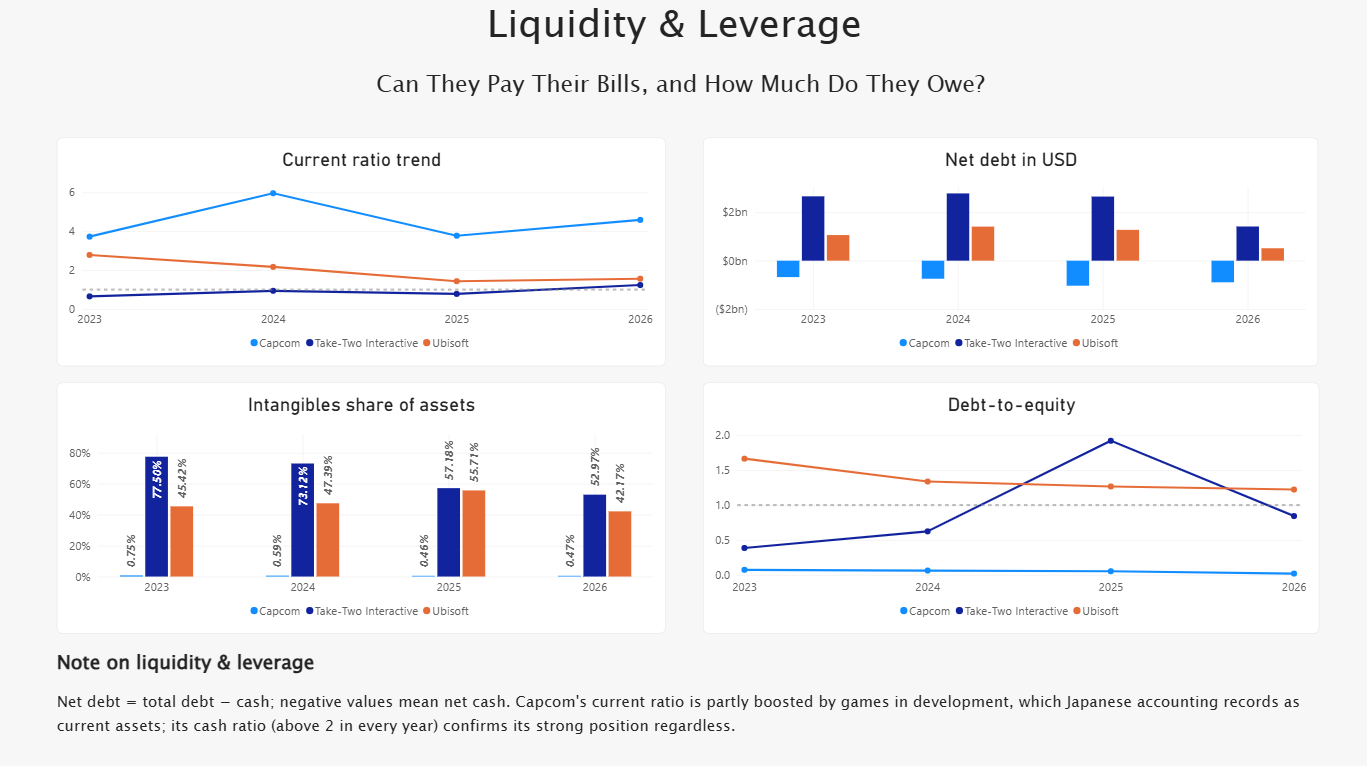

This screenshot's page, from the dashboard's own definition file:
{"tool":"powerbi","page":{"name":"Liquidity & leverage","canvas":[1920,1080],"ordinal":2},"visuals":[{"type":"textbox","box":[191.9,0,1534.9,198.8],"z":0},{"type":"lineChart","title":"Current ratio trend","fields":{"Category":["Years.Year"],"Series":["public companies.company_name"],"Y":["Avg(public liquidity_leverage.current_ratio)"]},"box":[89,198.8,849.4,319.2],"z":1000},{"type":"clusteredColumnChart","title":"Net debt in USD","fields":{"Category":["Years.Year"],"Series":["public companies.company_name"],"Y":["Sum(public amounts_usd.net_debt_usd)"]},"box":[990.7,198.8,858.1,319.2],"z":2000},{"type":"clusteredColumnChart","title":"Intangibles share of assets","fields":{"Category":["Years.Year"],"Series":["public companies.company_name"],"Y":["Avg(public liquidity_leverage.intangibles_to_assets)"]},"box":[89,540.7,849.4,350.6],"z":3000},{"type":"textbox","box":[89,910.5,1759.9,151.7],"z":4000},{"type":"lineChart","title":"Debt-to-equity","fields":{"Category":["Years.Year"],"Series":["public companies.company_name"],"Y":["Avg(public liquidity_leverage.debt_to_equity)"]},"box":[990.7,540.7,859.9,350.6],"z":5000}]}

Visuals, with their boxes in screenshot pixels (x1, y1, x2, y2), scaled from the page's 1920x1080 canvas onto the 1367x766 screenshot:
textbox: locate(137, 0, 1229, 141)
"Current ratio trend" lineChart: locate(63, 141, 668, 367)
"Net debt in USD" clusteredColumnChart: locate(705, 141, 1316, 367)
"Intangibles share of assets" clusteredColumnChart: locate(63, 383, 668, 632)
textbox: locate(63, 646, 1316, 753)
"Debt-to-equity" lineChart: locate(705, 383, 1318, 632)
